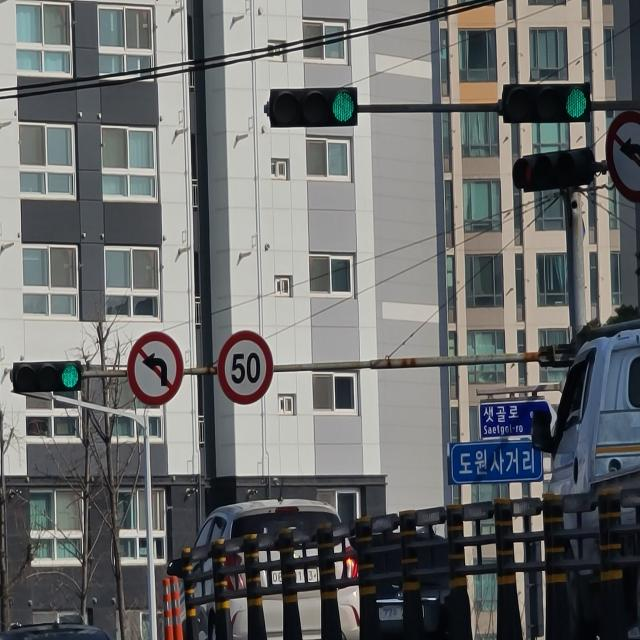Green Light: (563, 85, 590, 121), (331, 86, 355, 125), (60, 360, 80, 390)
Red Light: (516, 153, 536, 191)
